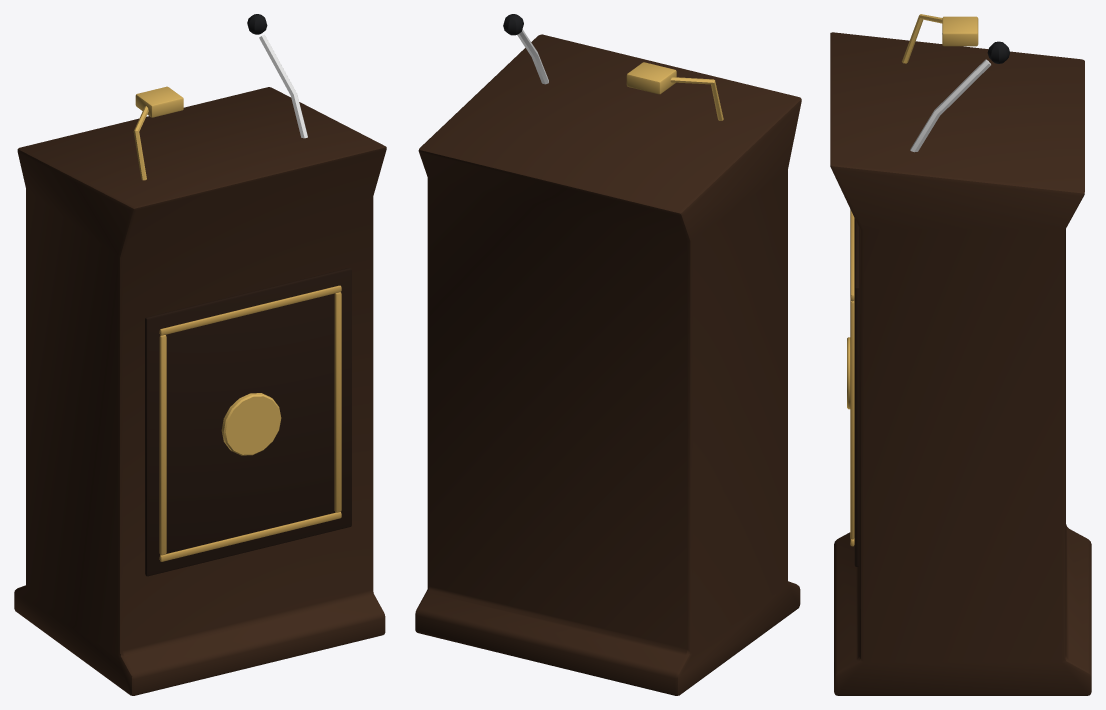
File: lectern.glb
3 views of the same model, side by side, from view 1: azimuth 30°, elevation 25°; view 2: azimuth 150°, elevation 25°; view 3: azimuth 270°, elevation 25° (orthographic). The views are drawn at different scales.
Visible parts, largest first — view 1: lectern; view 2: lectern; view 3: lectern.
Part boxes in pixels (x1,y1,x2,y2): lectern: [14, 14, 386, 695]; lectern: [415, 14, 801, 695]; lectern: [830, 14, 1091, 695].
Size of the model in its own units: 0.62 by 1.34 by 0.5071.
